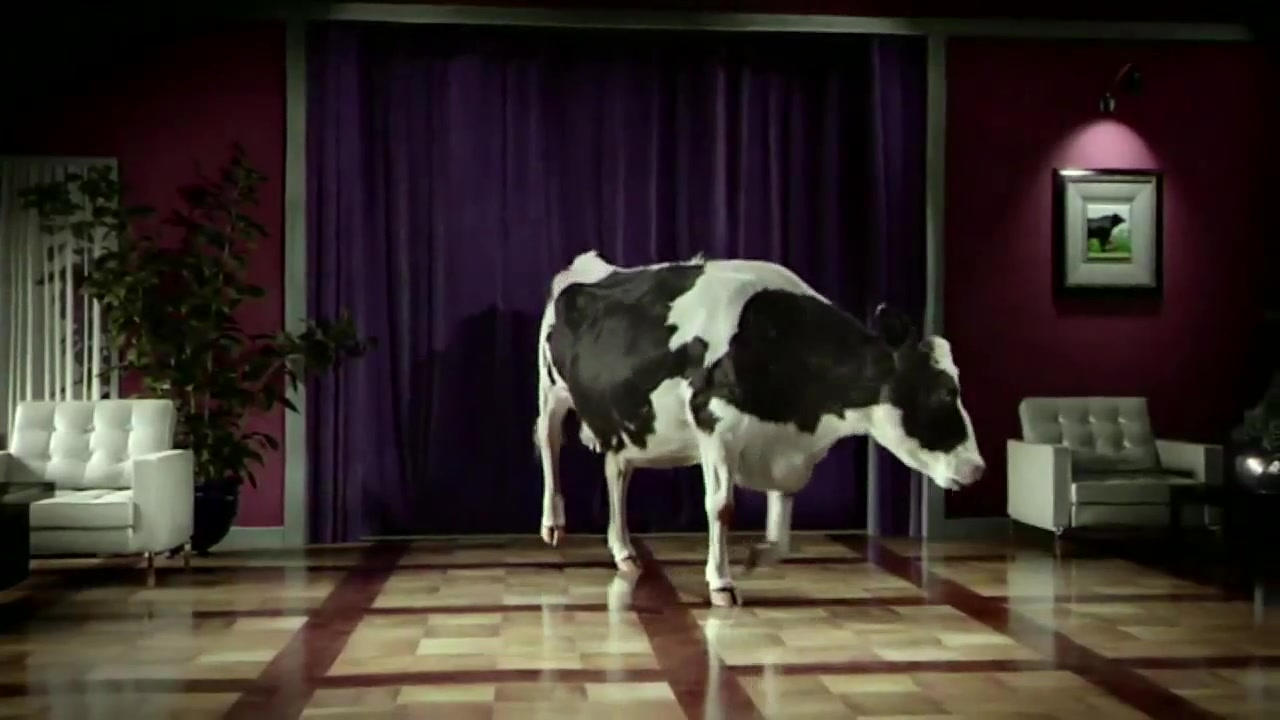cow: (527, 242, 989, 616)
